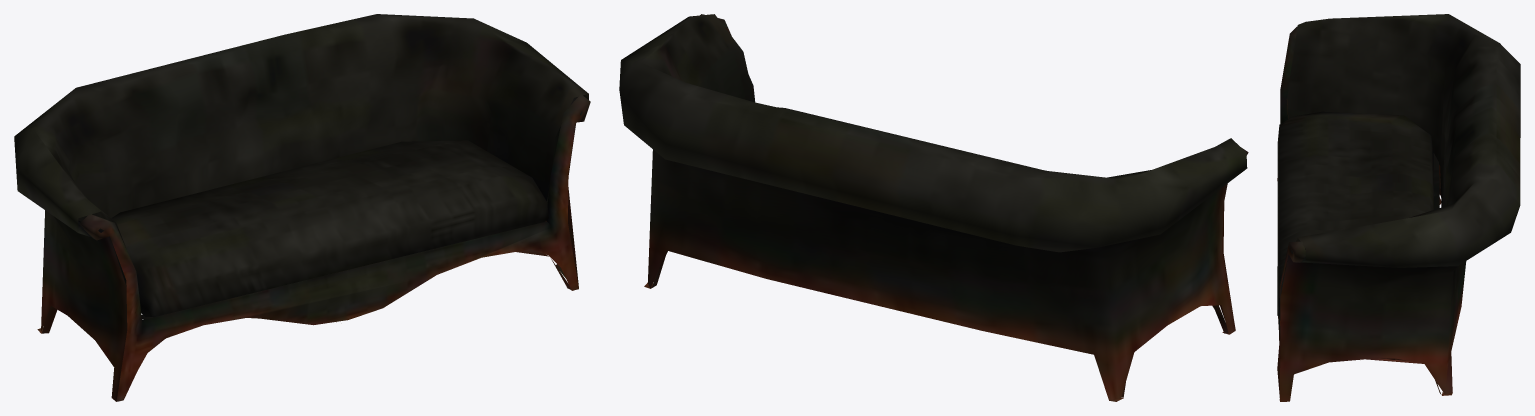
File: sofa.gltf
3 views of the same model, side by side, from view 1: azimuth 30°, elevation 25°; view 2: azimuth 150°, elevation 25°; view 3: azimuth 270°, elevation 25° (orthographic). The views are drawn at different scales.
Visible parts, largest first — view 1: sofa_02_Base, sofa_02_Seat; view 2: sofa_02_Base; view 3: sofa_02_Base, sofa_02_Seat.
Part boxes in pixels (x1=…): sofa_02_Base: x1=14, y1=14, x2=590, y2=401; sofa_02_Seat: x1=111, y1=140, x2=548, y2=317; sofa_02_Base: x1=619, y1=14, x2=1248, y2=401; sofa_02_Base: x1=1277, y1=14, x2=1520, y2=401; sofa_02_Seat: x1=1277, y1=111, x2=1433, y2=316.
Size of what is drawn, in the model's own units: 1.78 by 0.7132 by 0.8029.
1 material, 1 textured.
